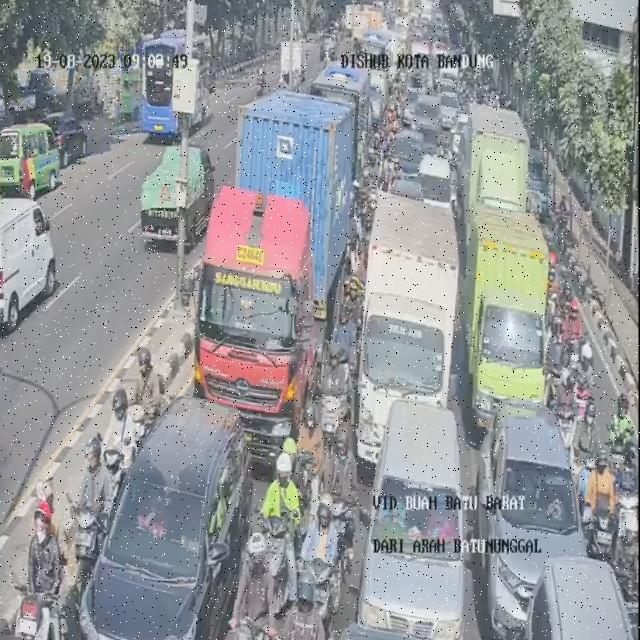truck: (195, 190, 314, 466)
